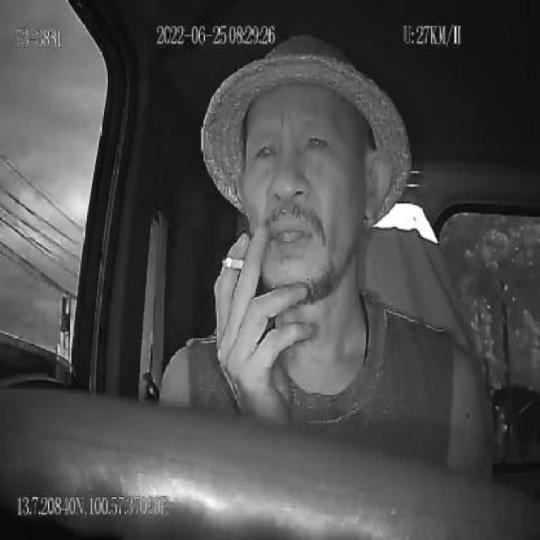smoking: (222, 254, 245, 272)
